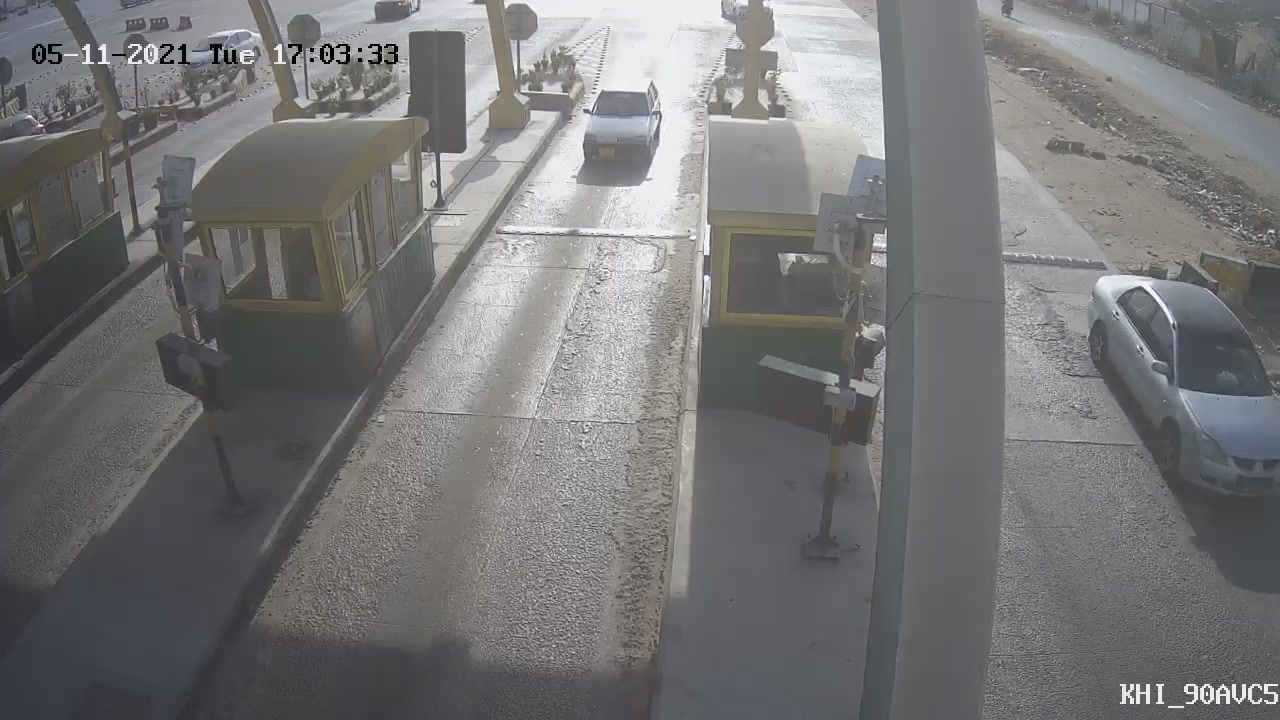F1: (564, 65, 679, 191)
